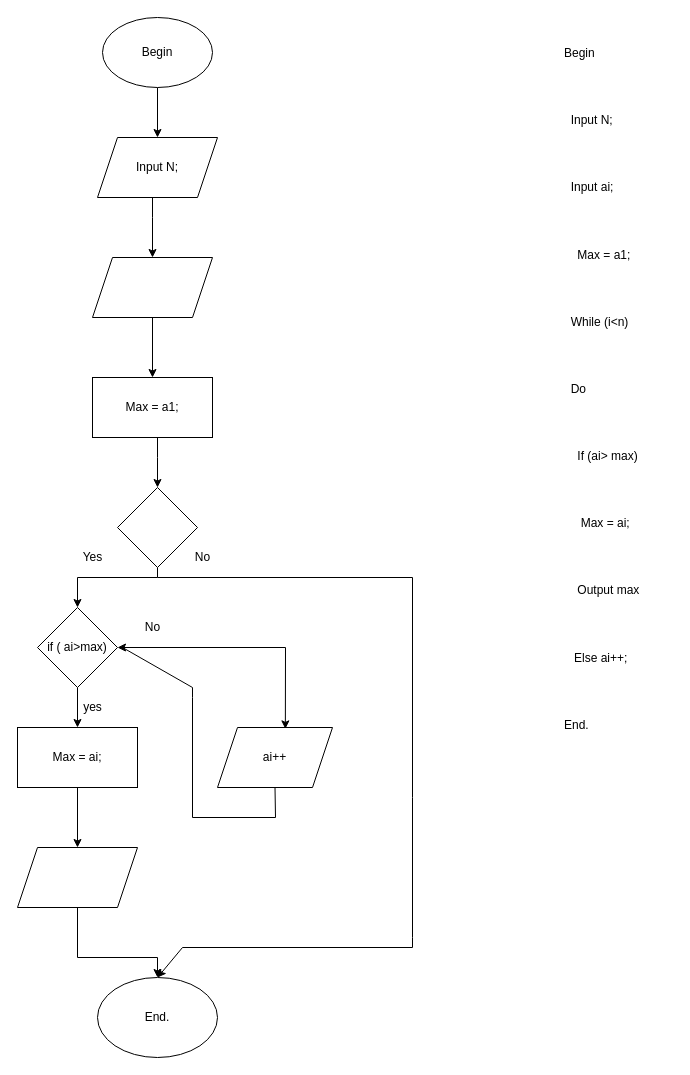
Image size: 690x1075. Some labels were removed from this diagram. The centre of each missing label's shape, as x and y in pixels:
Input ai;: [152,287]
Output max;: [77,877]
while (i<n): [157,527]
